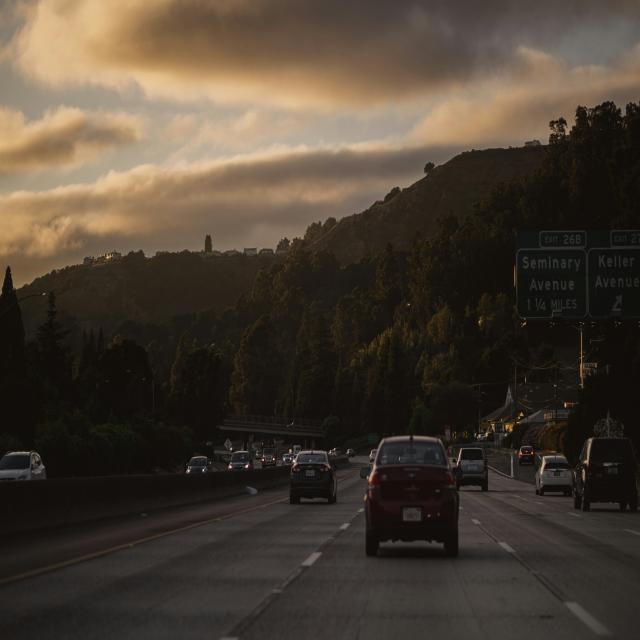Car: (360, 435, 461, 557), (290, 450, 338, 504), (535, 455, 574, 496), (454, 446, 488, 491), (0, 451, 46, 481), (228, 451, 252, 470), (186, 456, 211, 474), (519, 445, 534, 466), (261, 447, 276, 467), (370, 448, 378, 462)
Traffic-sign: (513, 226, 639, 322)
